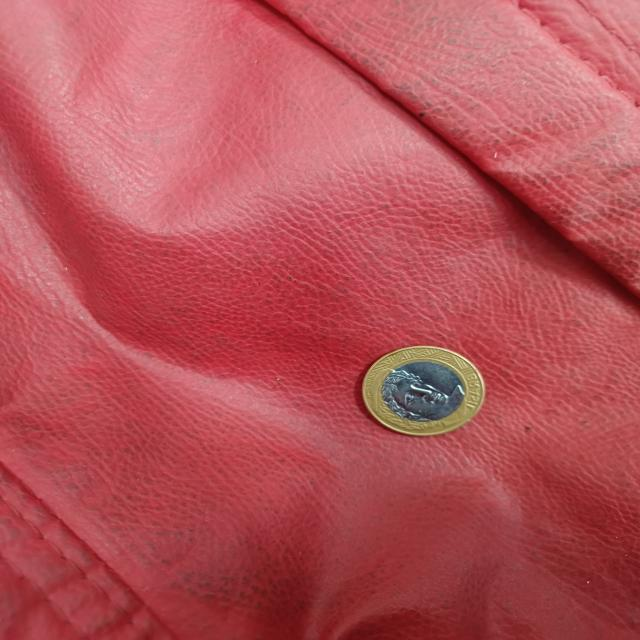1 real: (361, 344, 486, 442)
